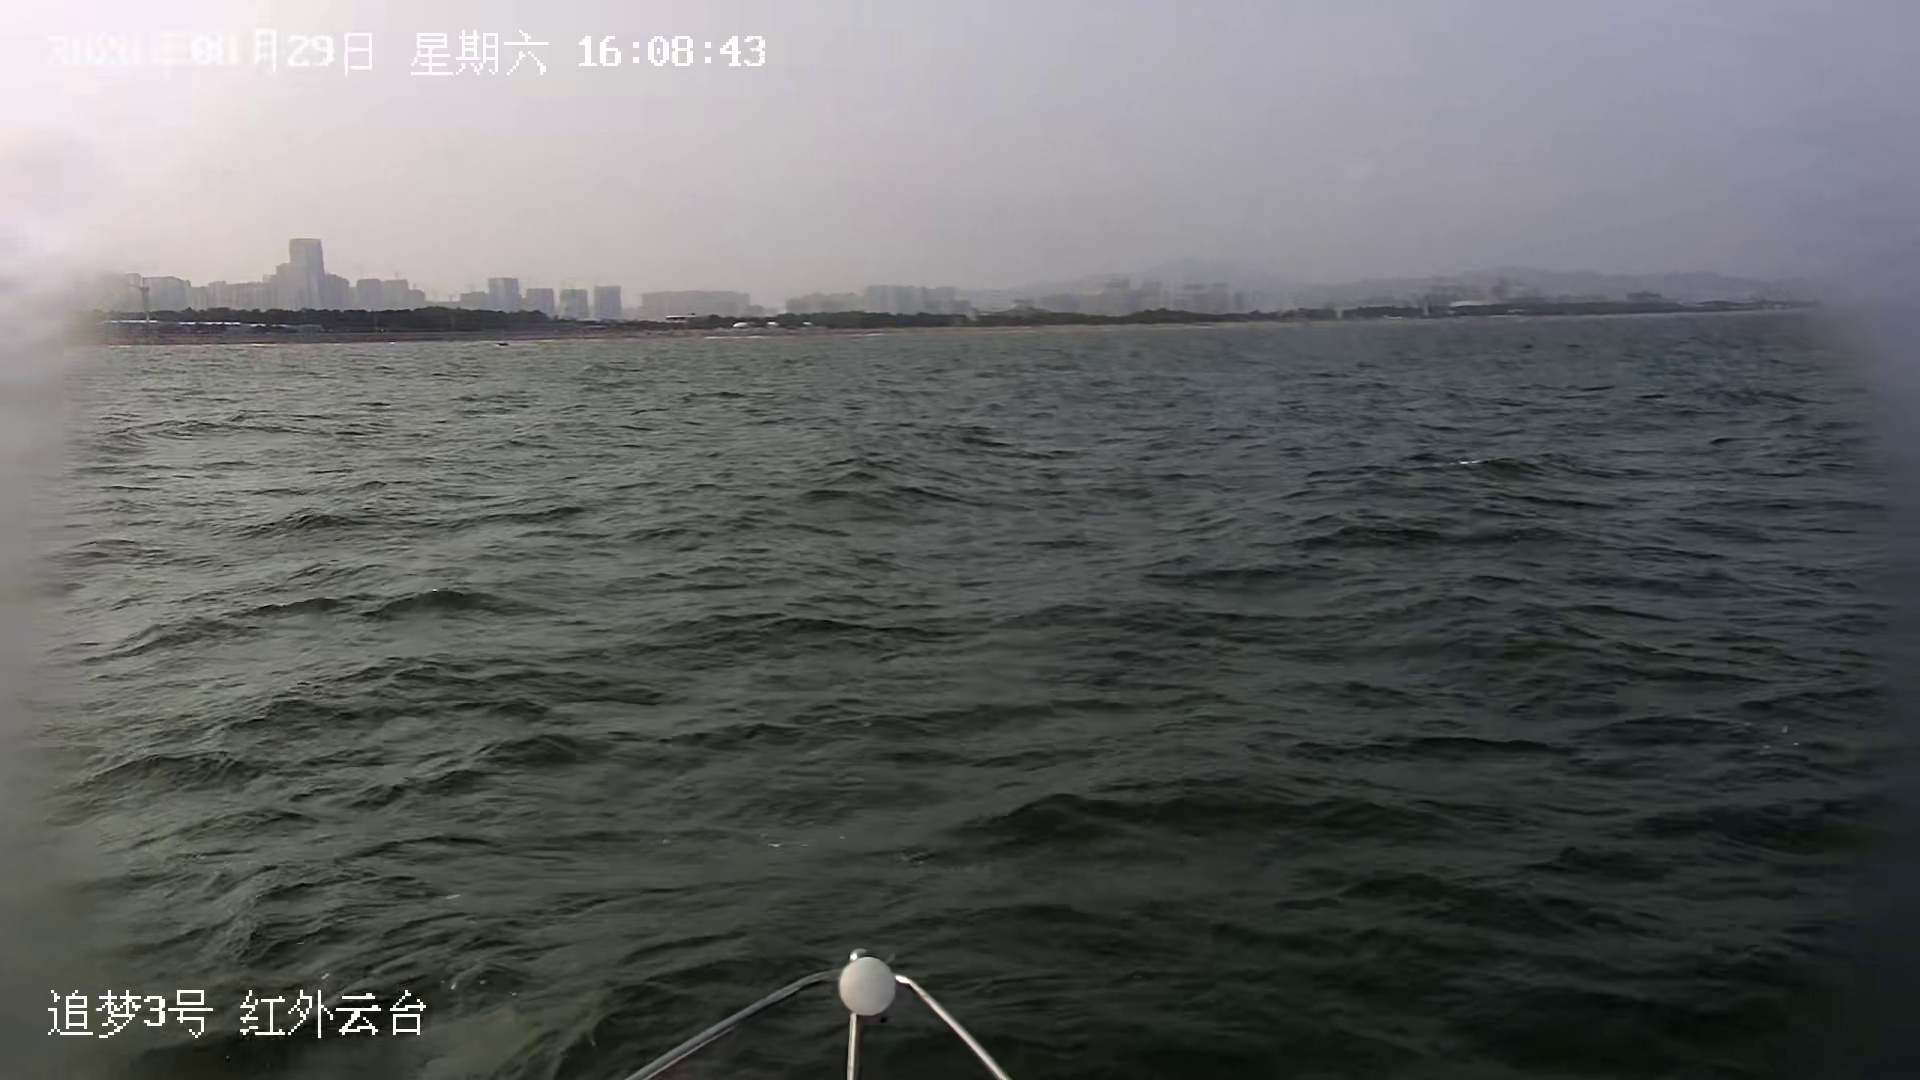coast: (65, 232, 1912, 343)
